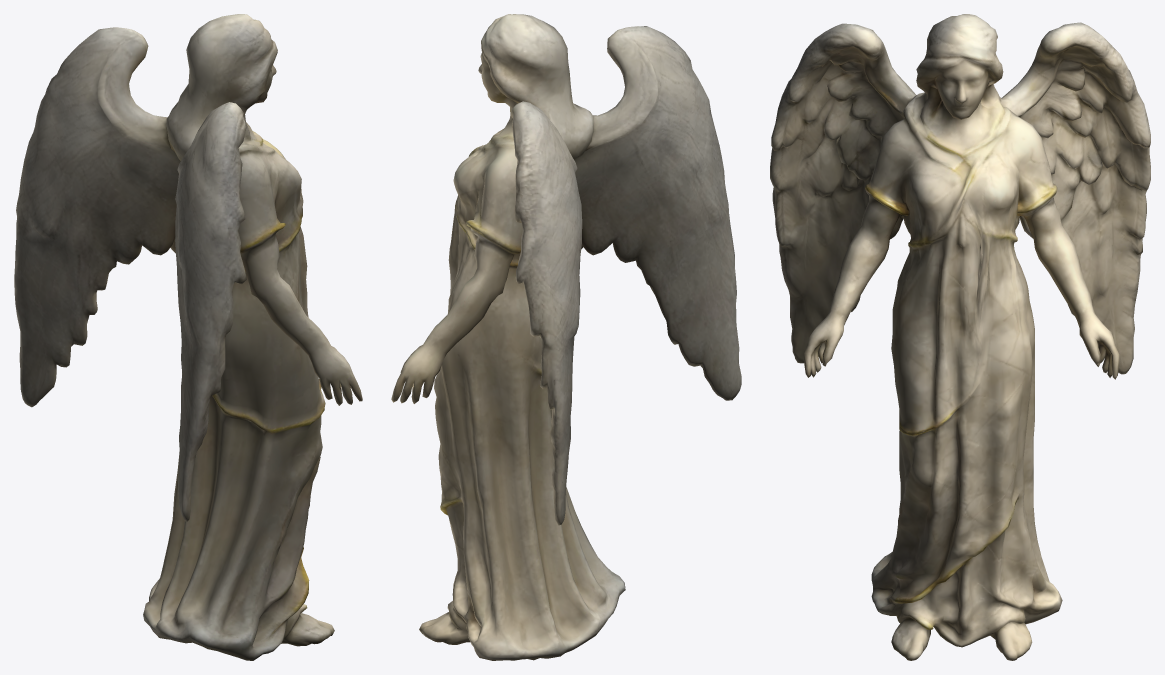
The picture shows the model from 3 angles, left to right: view 1: azimuth 30°, elevation 25°; view 2: azimuth 150°, elevation 25°; view 3: azimuth 270°, elevation 25°; orthographic projection.
Parts seen in each view (by area): view 1: tripo_node_63158f08-c428-4061-8ab1-aac2f72c85e4; view 2: tripo_node_63158f08-c428-4061-8ab1-aac2f72c85e4; view 3: tripo_node_63158f08-c428-4061-8ab1-aac2f72c85e4.
Boxes of the visible parts, bbox=[...] form: tripo_node_63158f08-c428-4061-8ab1-aac2f72c85e4: bbox=[14, 14, 362, 660]; tripo_node_63158f08-c428-4061-8ab1-aac2f72c85e4: bbox=[391, 14, 741, 660]; tripo_node_63158f08-c428-4061-8ab1-aac2f72c85e4: bbox=[770, 14, 1150, 660].
Bounding box in the file's own units: 0.3581 × 1 × 0.5656.
Materials: 1 (1 with a texture image).
